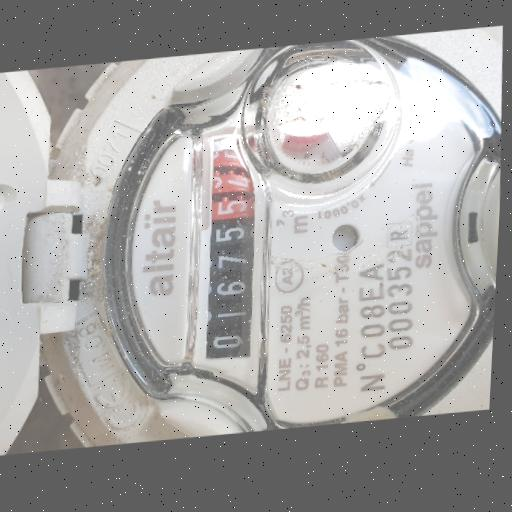0: (205, 327, 252, 353), (212, 141, 245, 162)
1: (207, 304, 252, 324)
4: (210, 170, 256, 194)
5: (208, 223, 255, 245), (210, 197, 256, 219)
6: (207, 278, 253, 298)
7: (208, 251, 255, 271)
border_water_meter_number: (180, 76, 282, 402)
